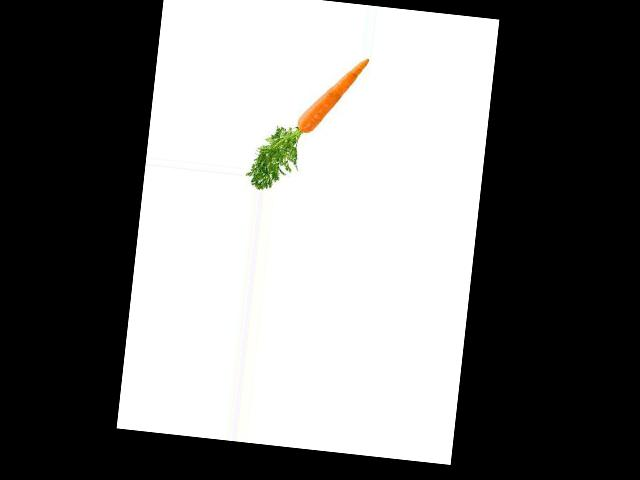carrot: (295, 50, 372, 142)
